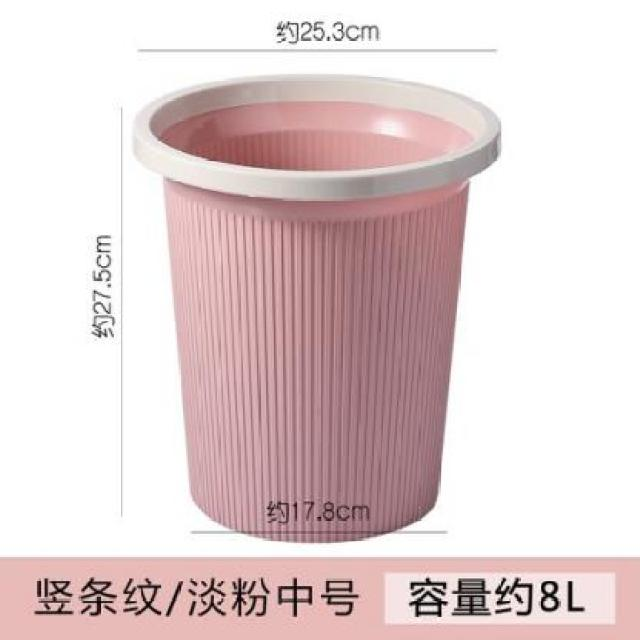dustbin: (129, 68, 505, 546)
